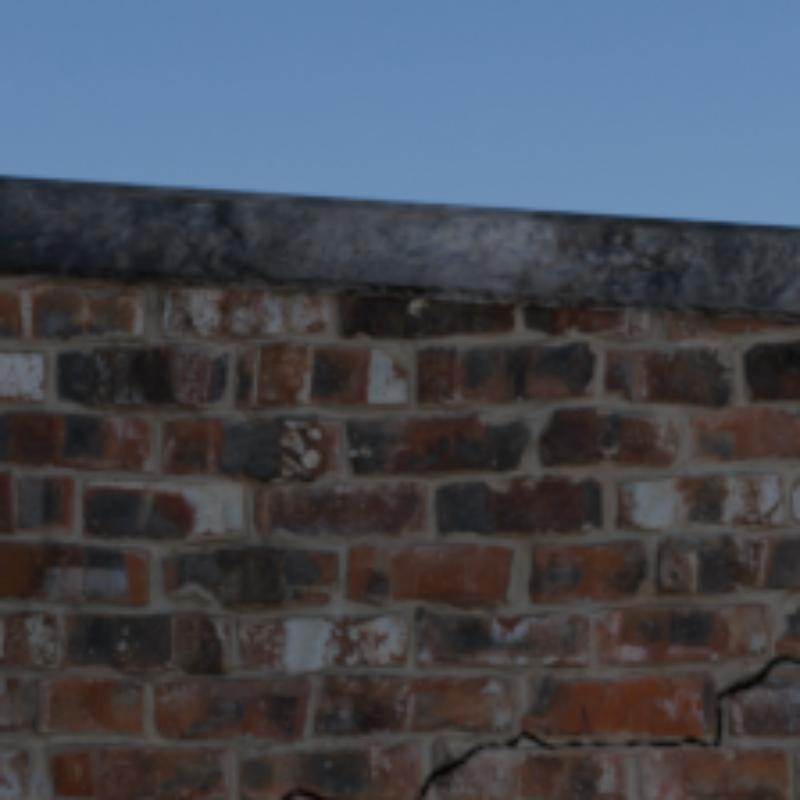crack: (418, 682, 746, 796), (746, 657, 796, 682), (761, 504, 782, 521), (282, 789, 325, 796)
